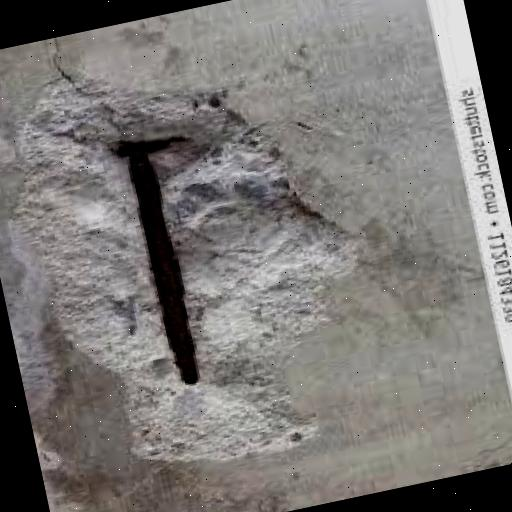spalling: (18, 84, 348, 456)
